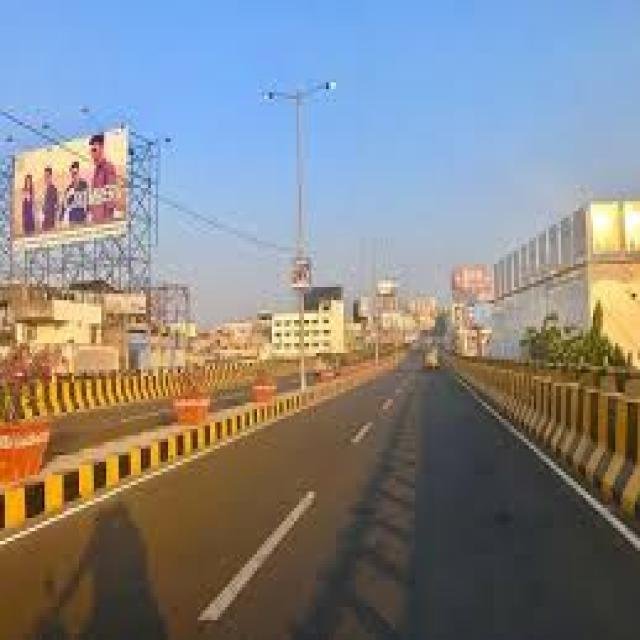Billboard_LHS: (3, 118, 139, 247)
Roadcorner: (0, 380, 360, 571), (449, 368, 638, 550)
Roadlane: (178, 366, 423, 627)
